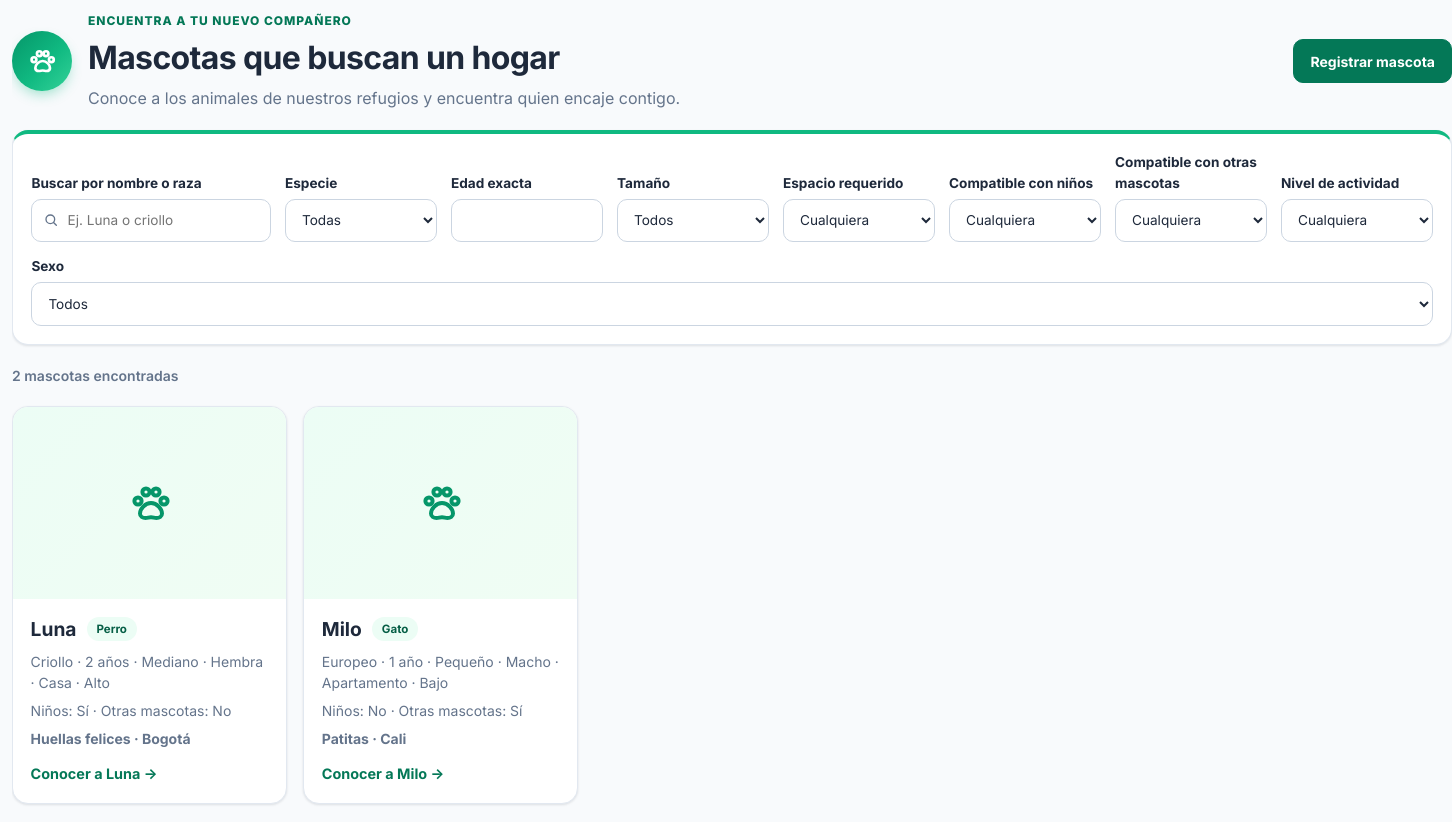
it: PetsPage › filters by sex, size and case-insensitive text, then clears the filters
The width and height of the screenshot is (1452, 822).
Expected: the heading "Luna" is shown, [31, 615, 76, 644]
Select "Hembra" in the dropdown labelled "Sexo". click: (732, 304)
box: [31, 282, 1433, 326]
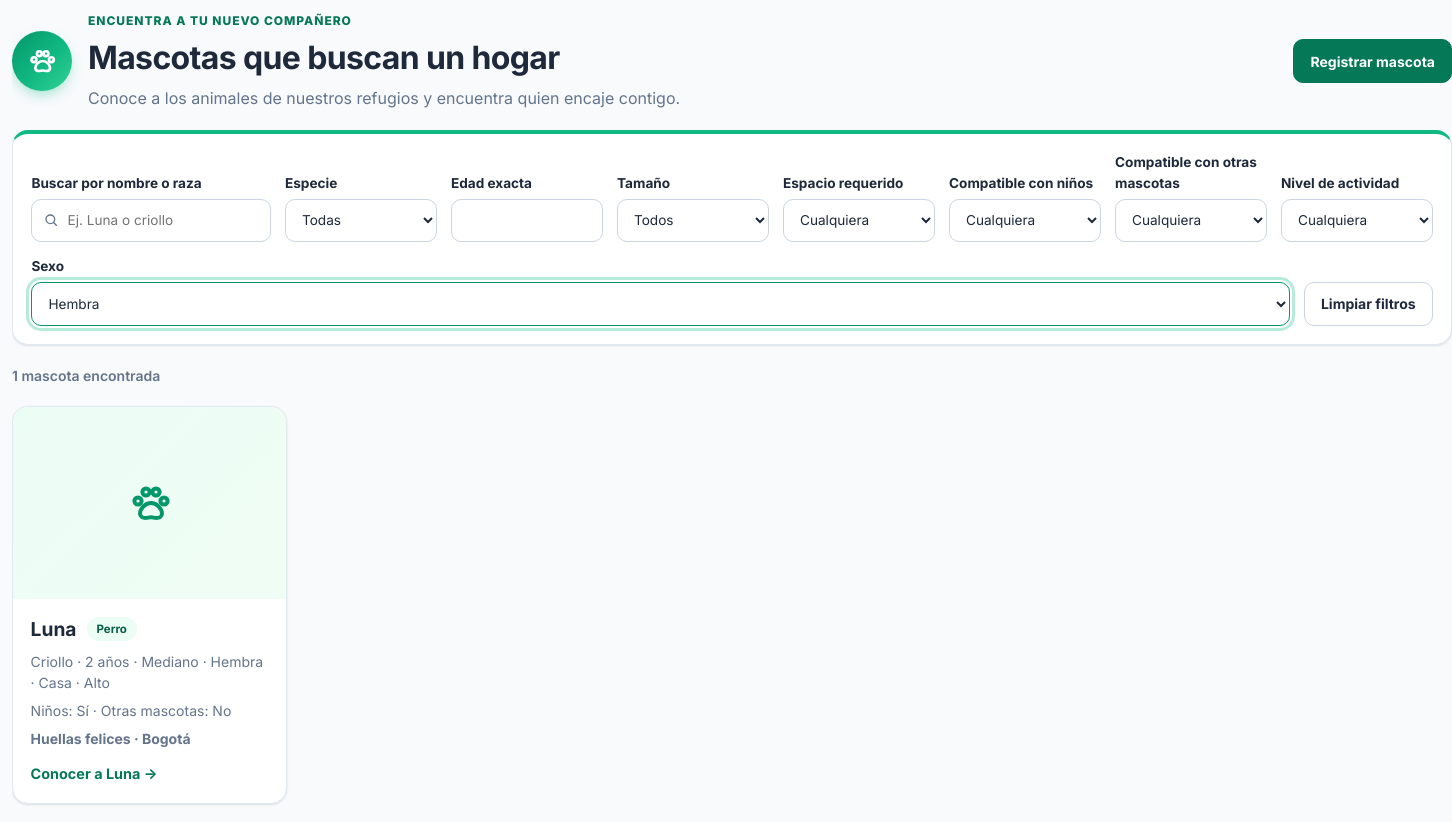
Expected: the heading "Luna" is shown, [31, 615, 76, 644]
Now the heading "Milo" is gone
Select "Todos" in the dropdown labelled "Sexo". click: (660, 304)
box: [31, 282, 1290, 326]
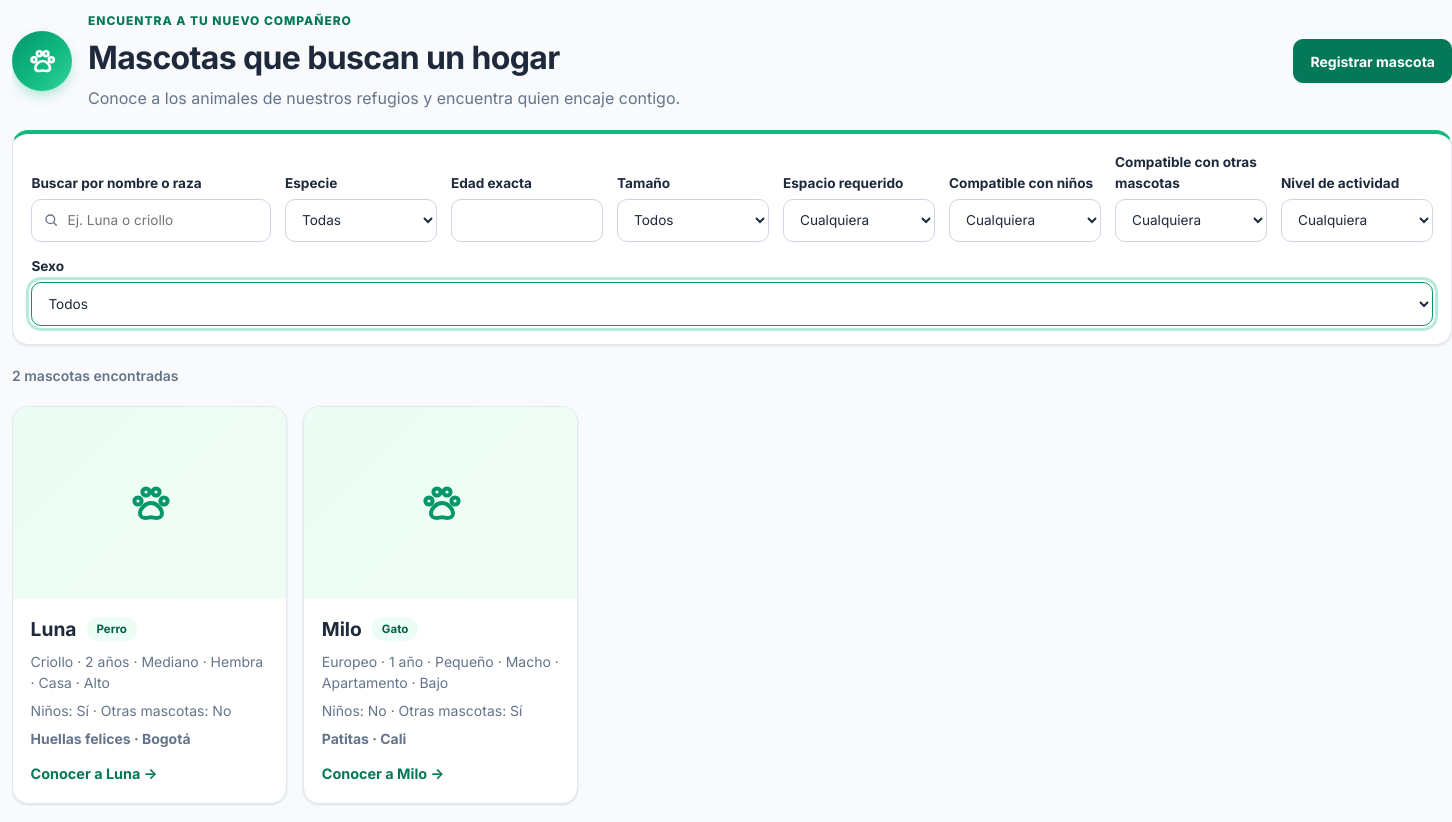
Select "Pequeño" in the dropdown labelled "Tamaño". click: (693, 220)
box: [617, 199, 769, 242]
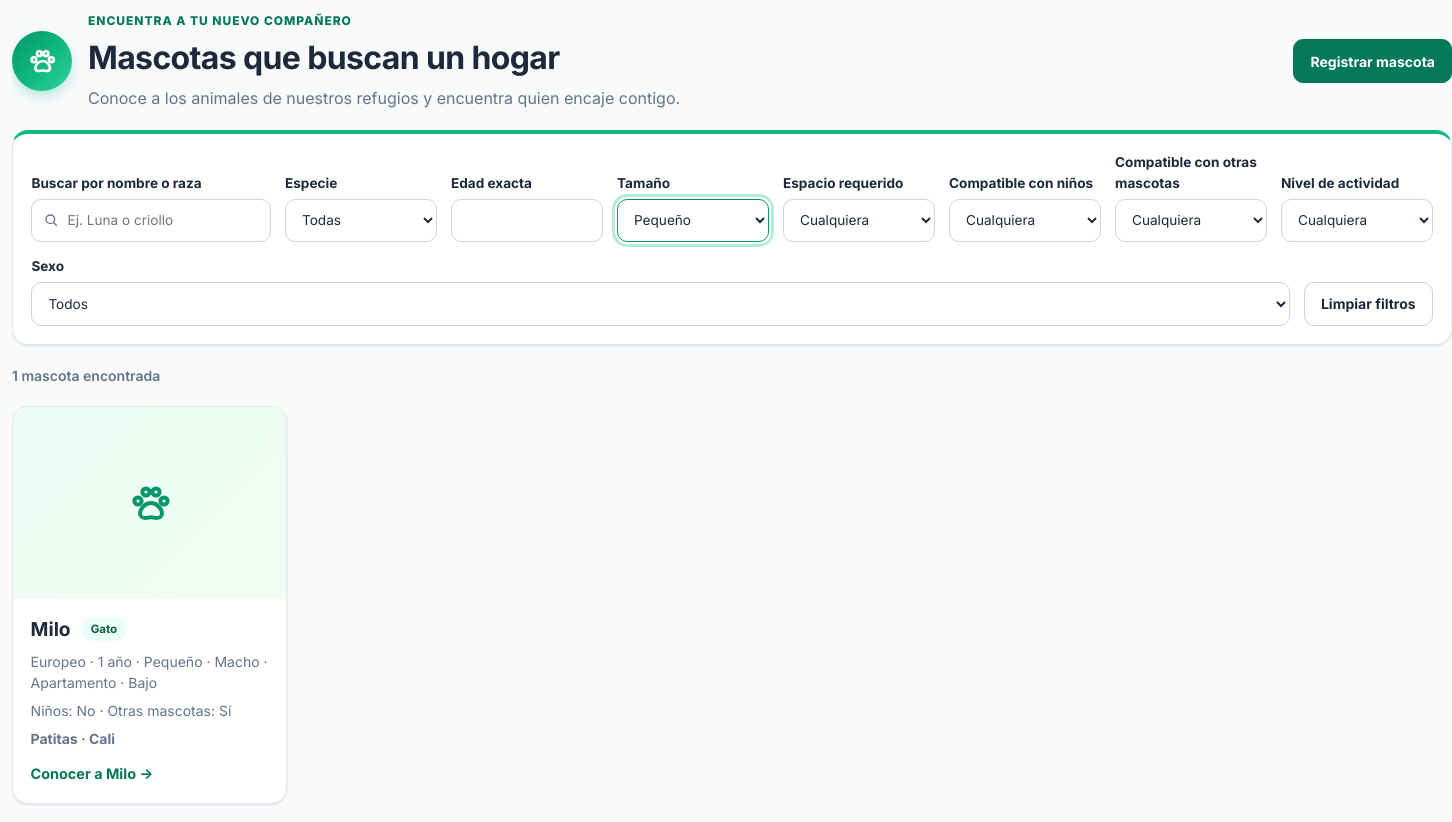
Now the heading "Milo" is shown, box [31, 615, 71, 644]
Select "Todos" in the dropdown labelled "Tamaño". click: (693, 220)
box: [617, 199, 769, 242]
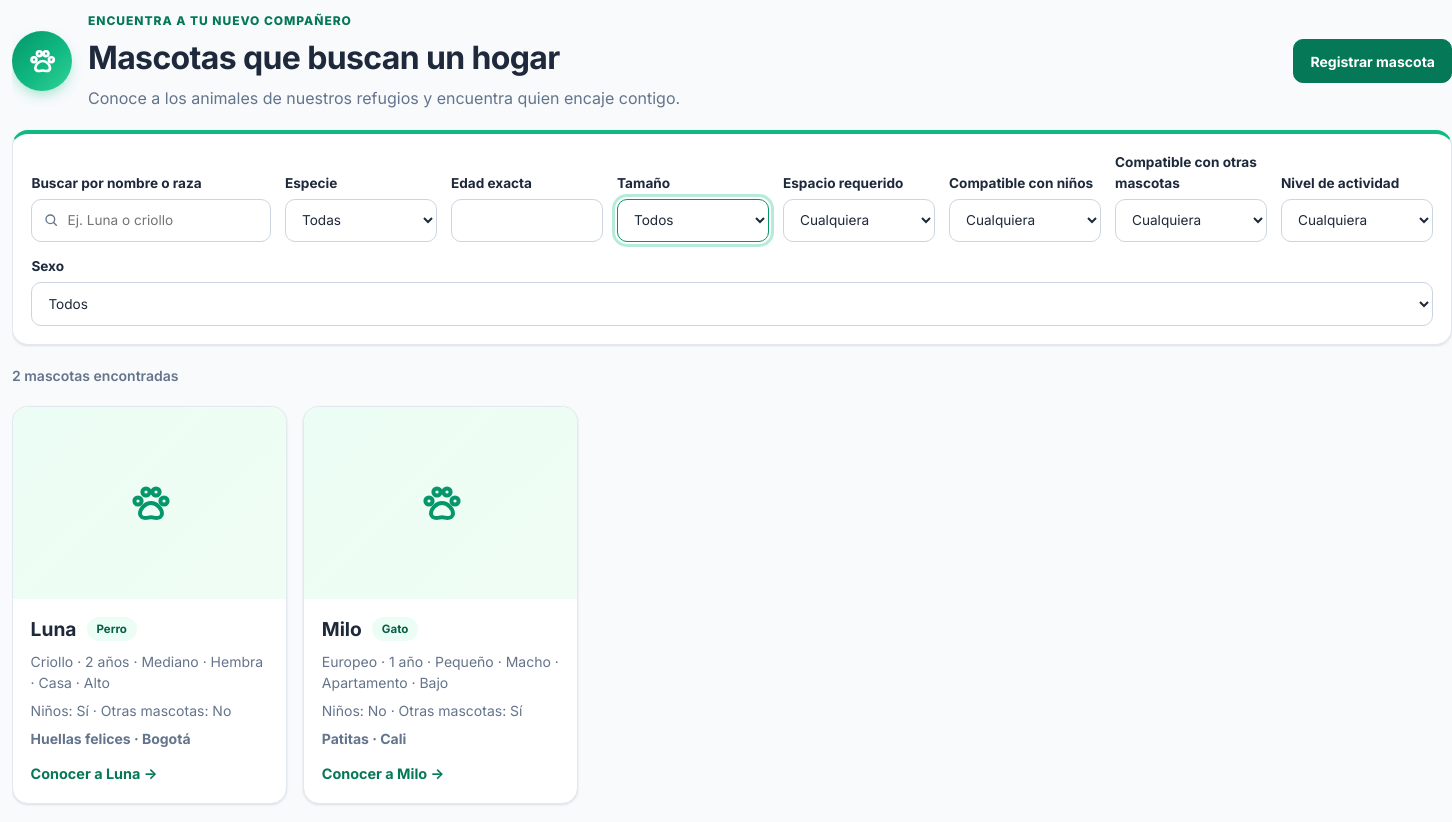
Type "EUROPEO" into the search field labelled "Buscar por nombre o raza". click: (151, 220)
box: [31, 199, 271, 242]
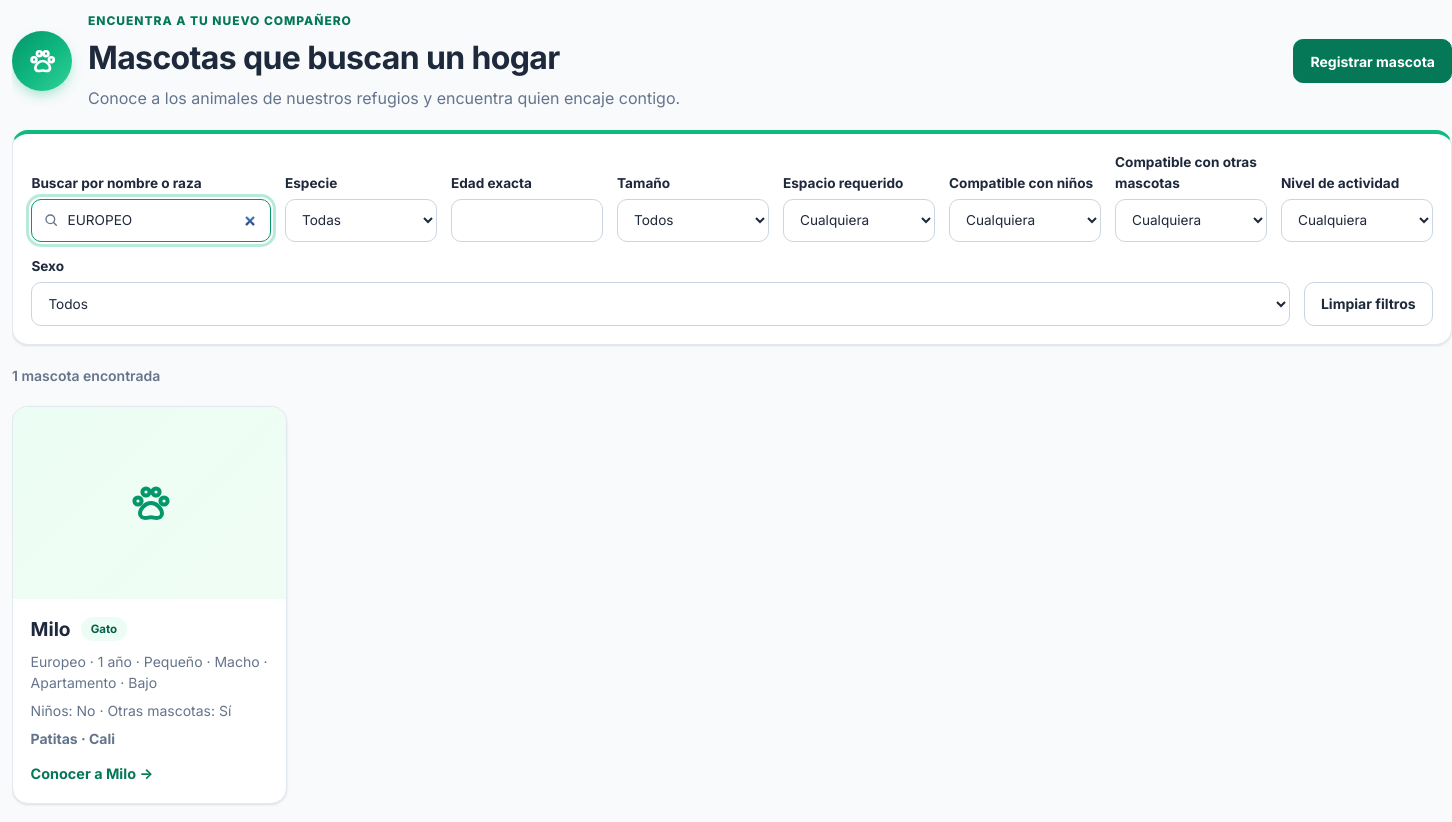
Now the heading "Milo" is shown, box [31, 615, 71, 644]
Now the heading "Luna" is gone
Click the button "Limpiar filtros". click: (1368, 304)
box: [1304, 282, 1433, 326]
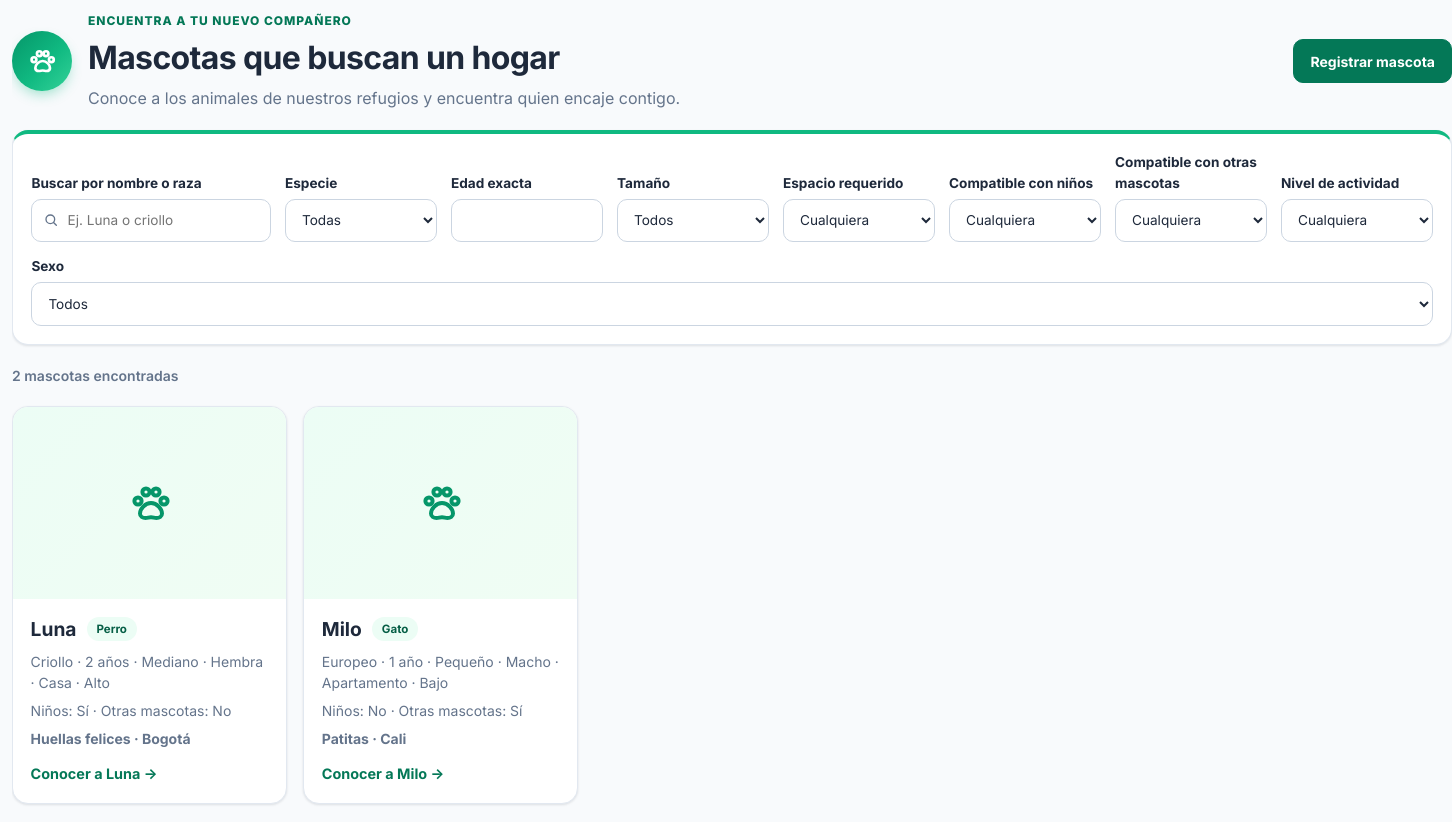
Now the heading "Milo" is shown, box [322, 615, 362, 644]
Now the heading "Luna" is shown, box [31, 615, 76, 644]
